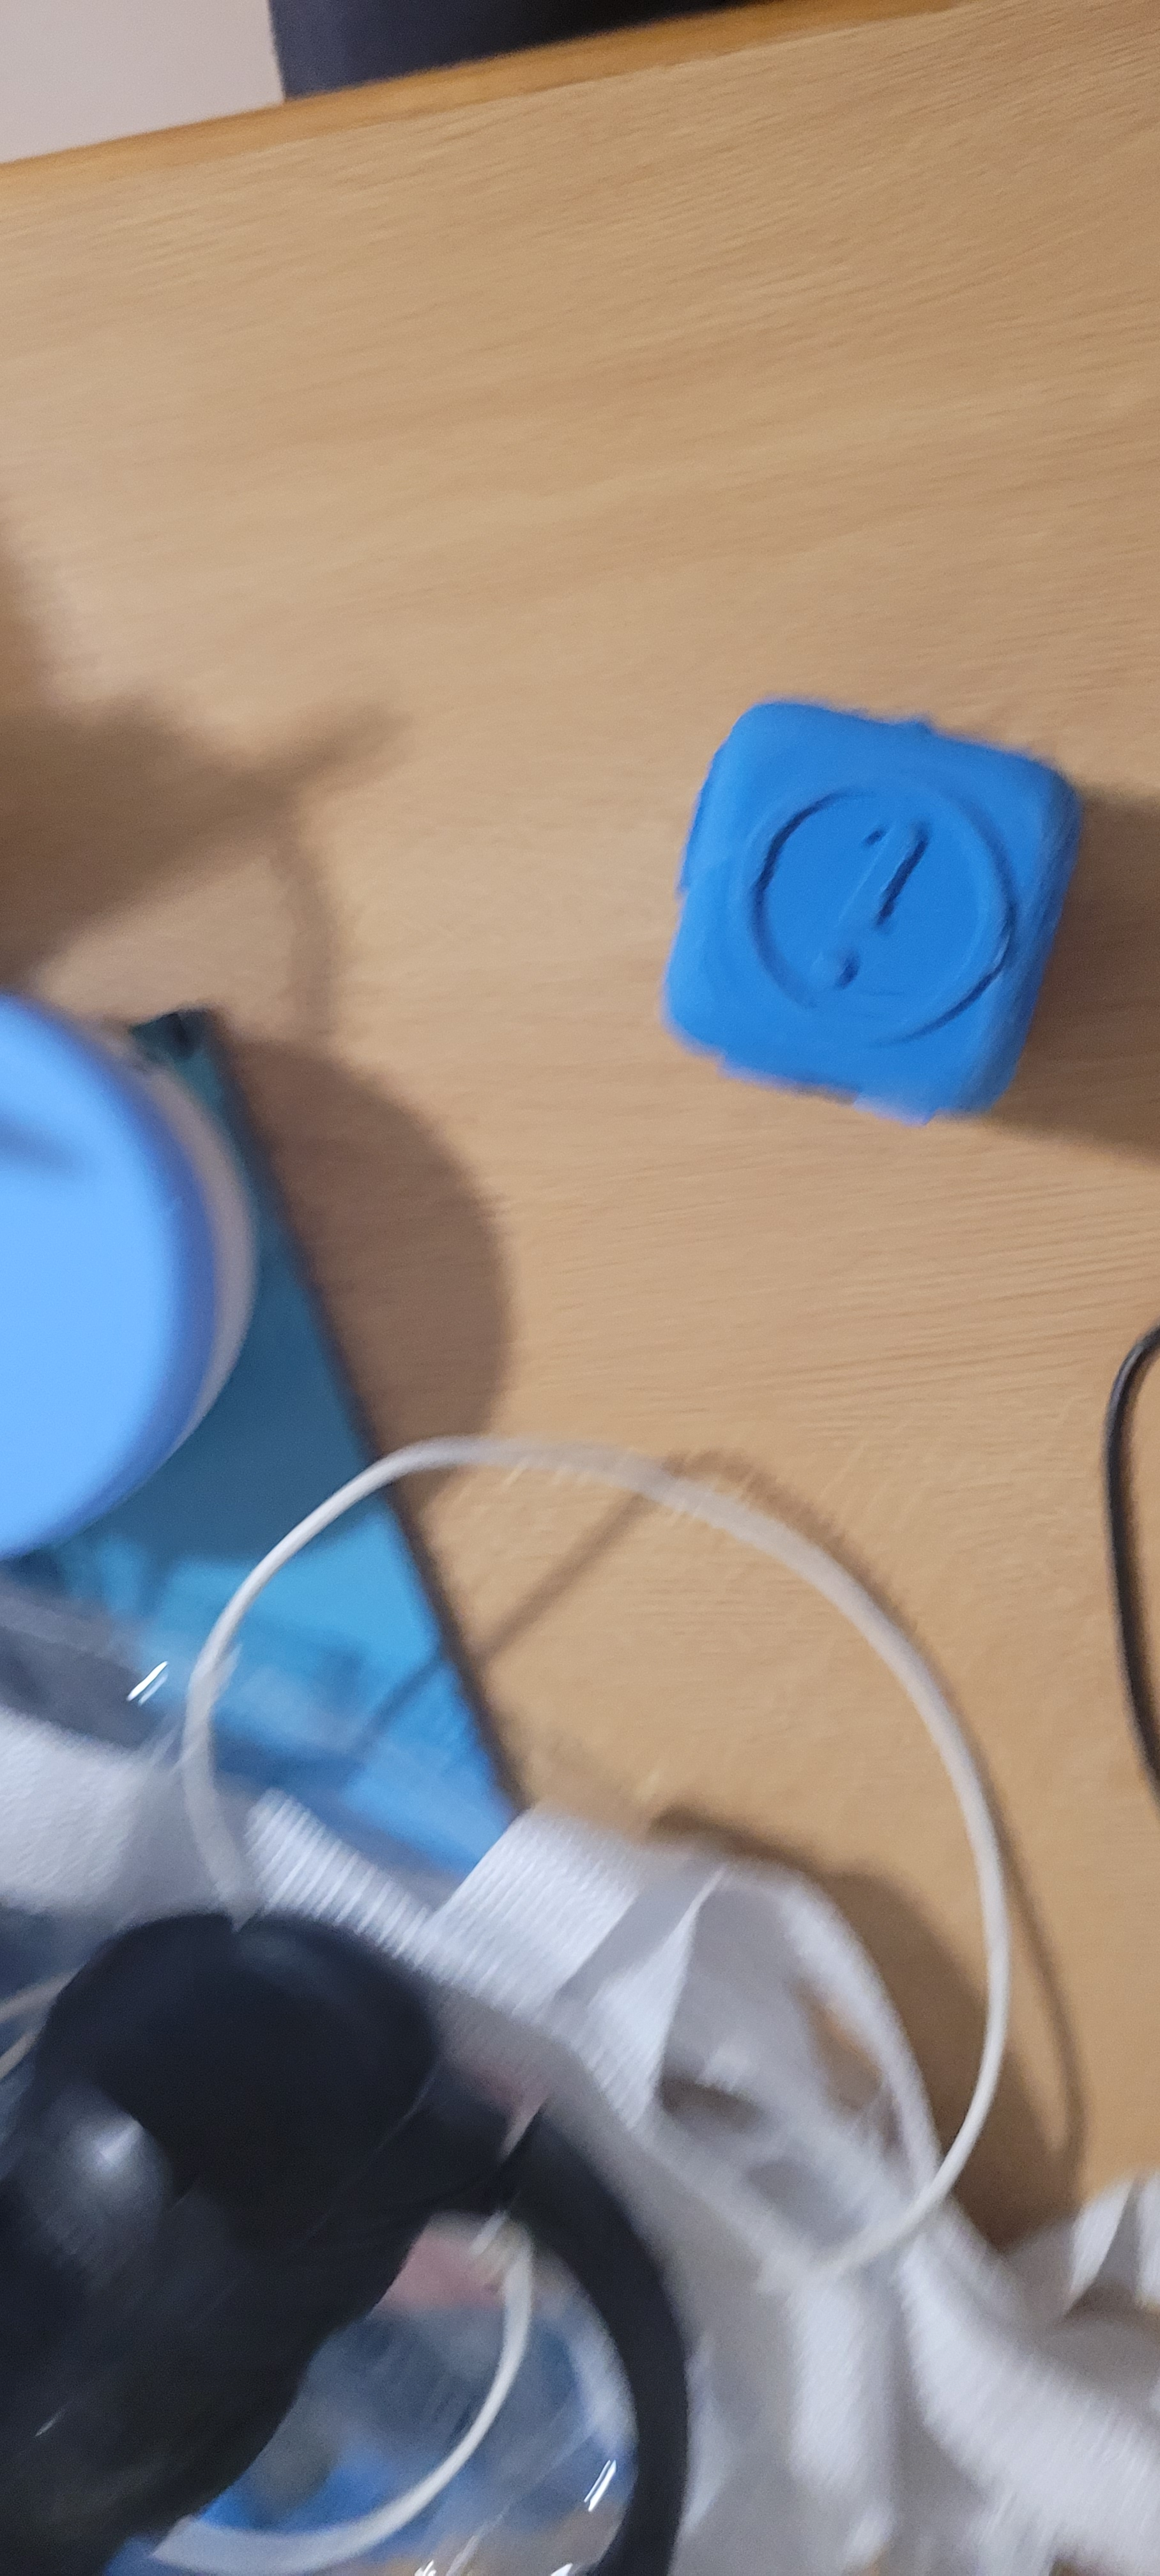Info: (731, 721, 1025, 1099)
